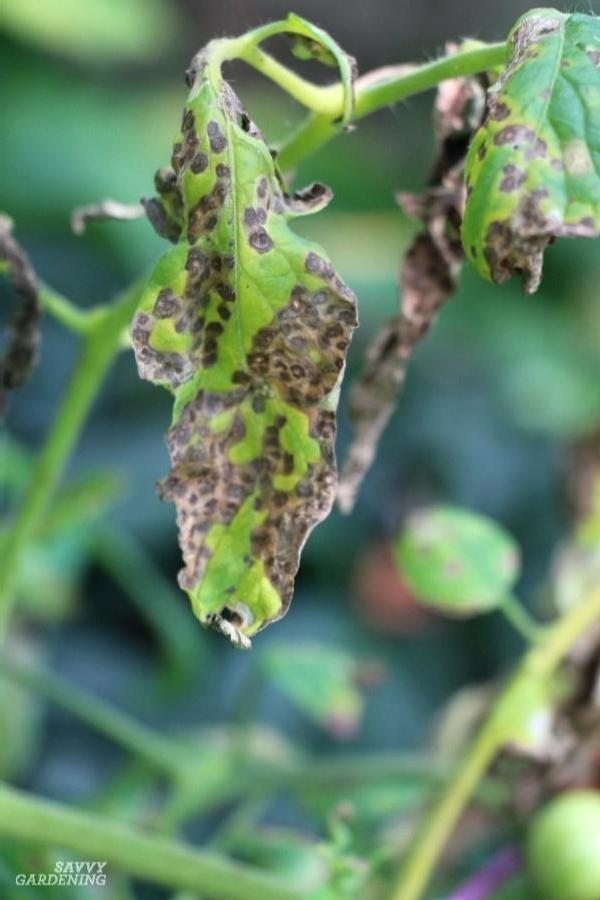Tomato leaf bacterial spot: (130, 64, 373, 660), (442, 13, 598, 299)
